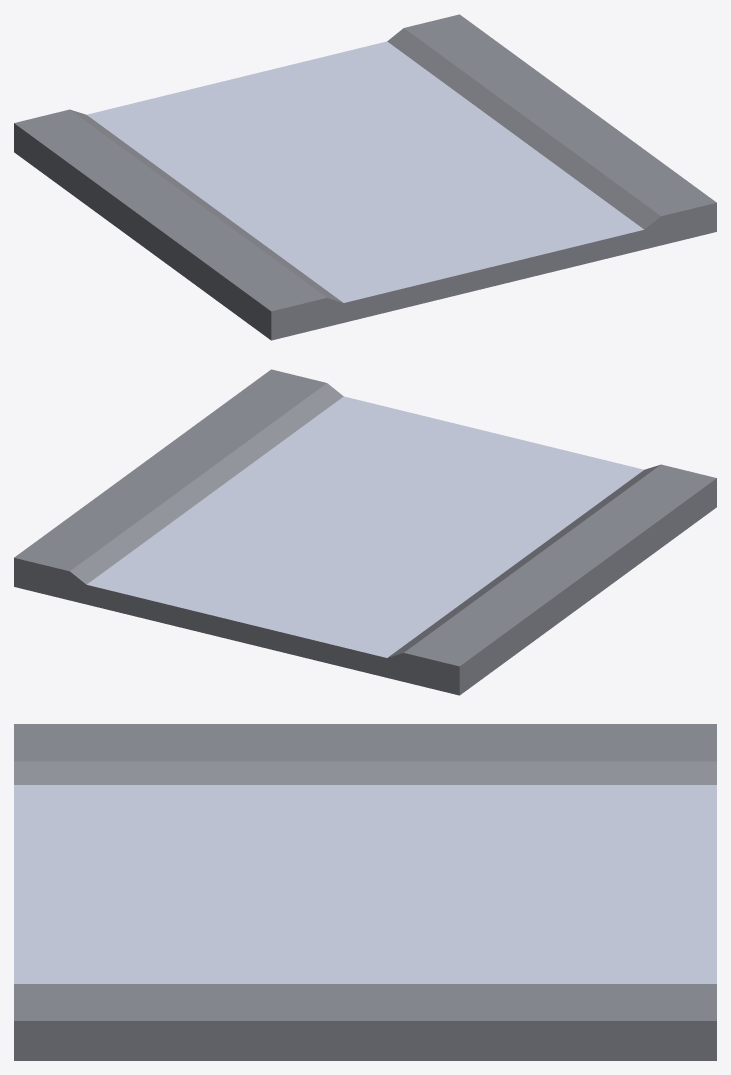
3 views of the same model, one above another, from view 1: azimuth 30°, elevation 25°; view 2: azimuth 150°, elevation 25°; view 3: azimuth 270°, elevation 25° (orthographic). The views are drawn at different scales.
Visible parts, largest first — view 1: object_038; view 2: object_038; view 3: object_038.
Boxes of the visible parts, box(x1,y1,x2,y2) form: object_038: box(14, 14, 716, 340); object_038: box(14, 369, 716, 695); object_038: box(14, 724, 716, 1060).
Size of the model in its own units: 10 by 0.625 by 10.
